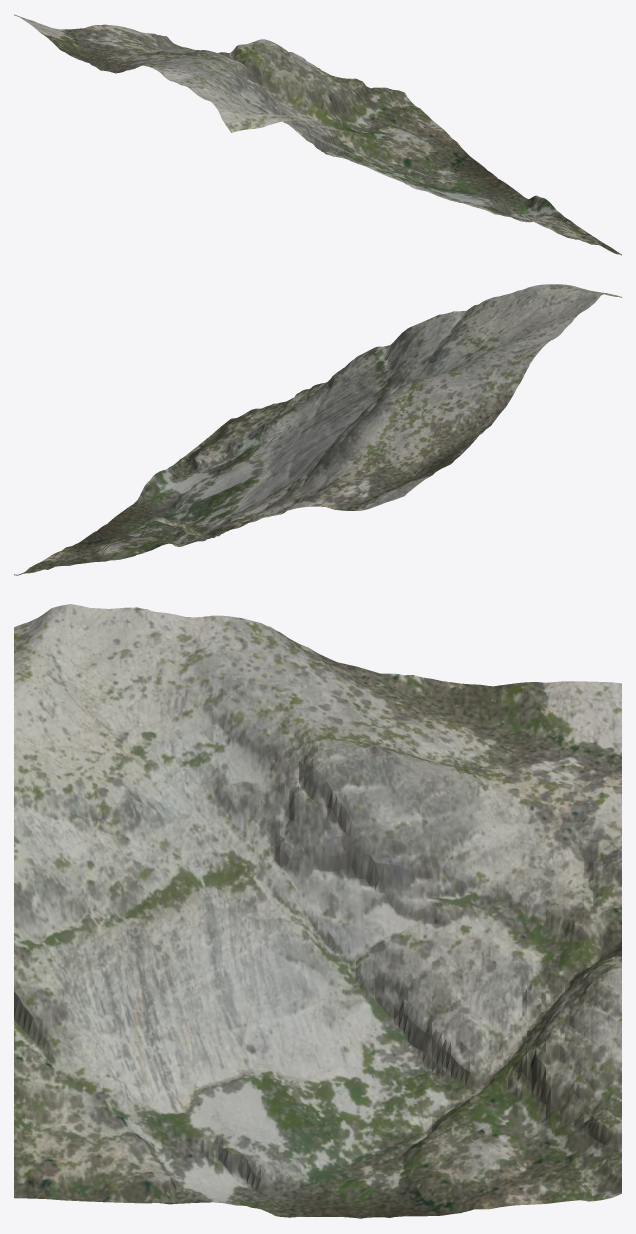
The picture shows the model from 3 angles, top to bottom: view 1: azimuth 30°, elevation 25°; view 2: azimuth 150°, elevation 25°; view 3: azimuth 270°, elevation 25°; orthographic projection. The views are drawn at different scales.
Bounding box in the file's own units: 500 × 305 × 481.
1 material, 1 textured.
